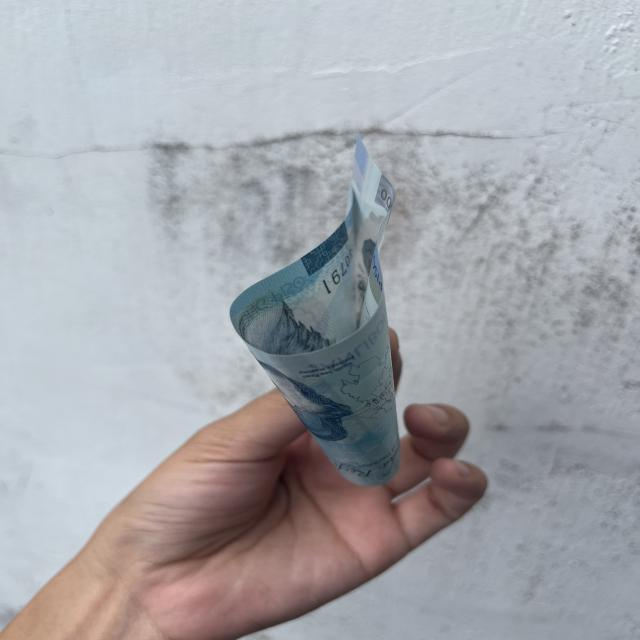security_thread: (277, 354, 400, 481)
